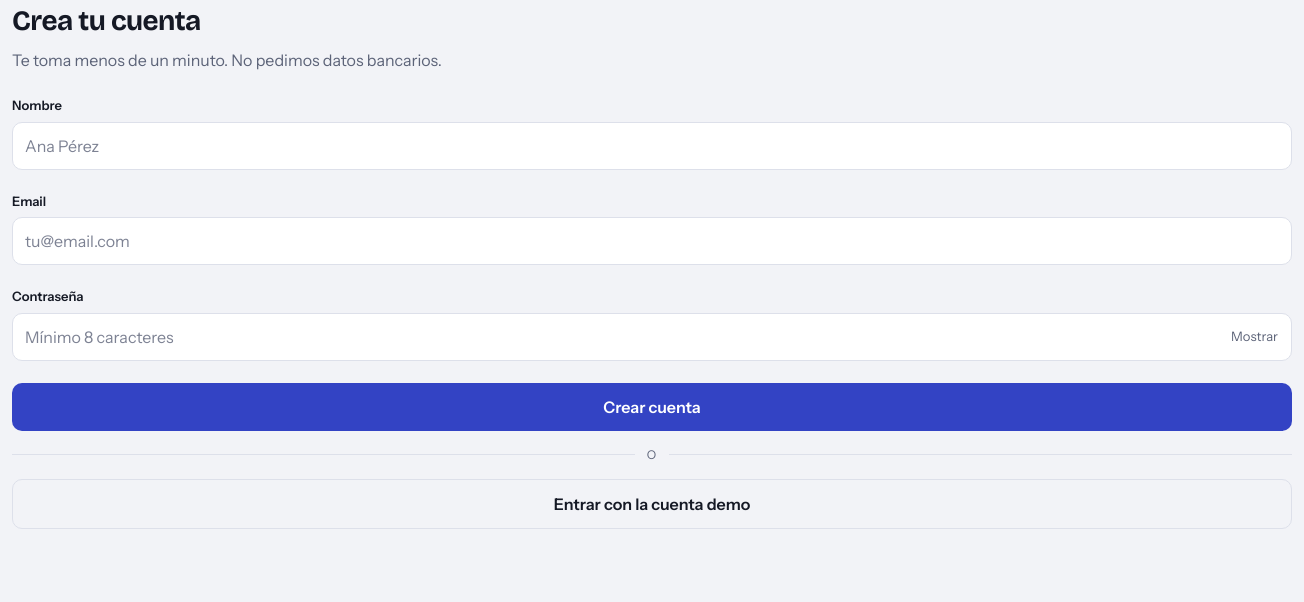
RegisterComponent › cuenta demo con 401 usa el mensaje de login
Click the button with id "demo-login": (652, 504) [12,478,1292,528]
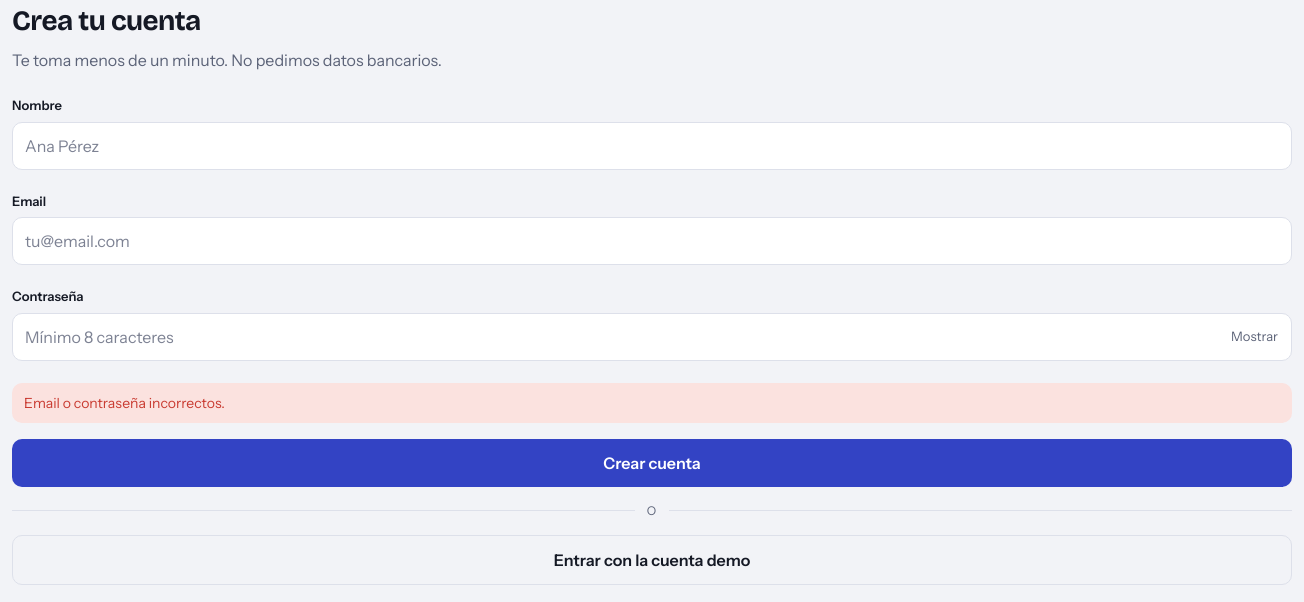
Now the message "Email o contraseña incorrectos." is shown, box [12,382,1292,422]
